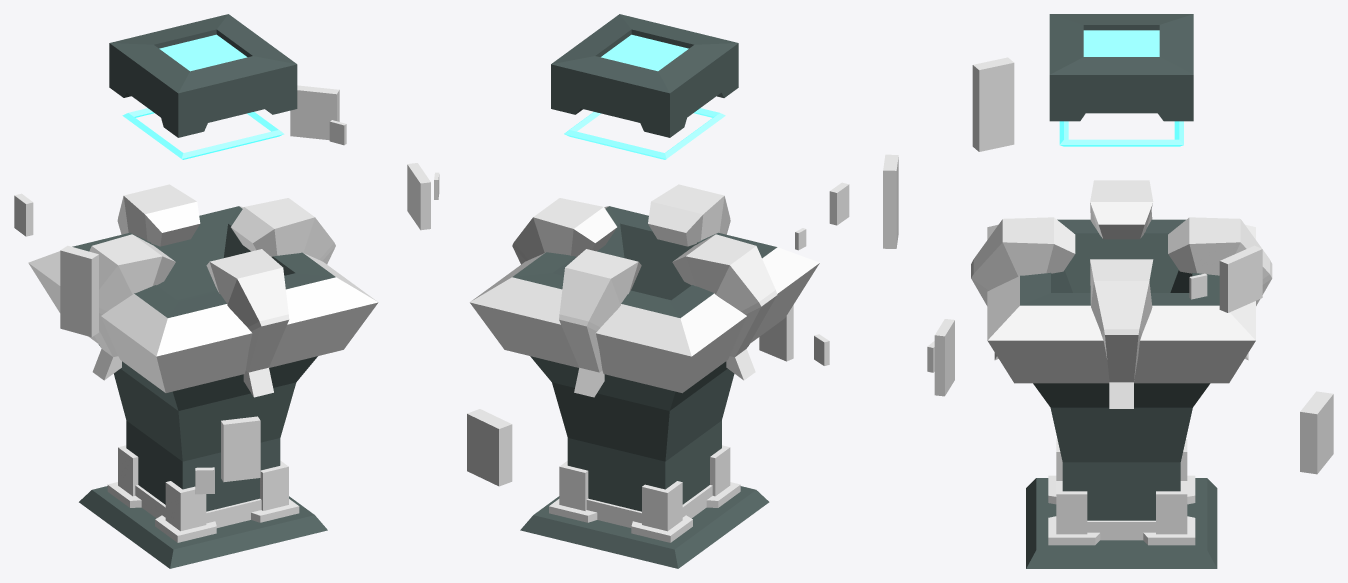
The model's file is windtower.fbx.
3 renders of one model, left to right at view 1: azimuth 30°, elevation 25°; view 2: azimuth 150°, elevation 25°; view 3: azimuth 270°, elevation 25°, orthographic. The views are drawn at different scales.
Parts seen in each view (by area): view 1: Cube.001, Cube.005, Cube.006, Cube.003, Cube, Cube.010, Cube.002, Cube.008, Torus, Cube.011, Cube.004; view 2: Cube.001, Cube.005, Cube.006, Cube.003, Cube, Cube.007, Torus, Cube.010, Cube.008, Cube.002, Cube.011; view 3: Cube.001, Cube.005, Cube.006, Cube, Cube.003, Cube.010, Cube.007, Cube.008, Cube.002, Torus.
Part boxes in pixels (x1,y1,x2,y2): Cube.001: (28,206,378,511); Cube.005: (89,184,335,397); Cube.006: (109,14,297,137); Cube.003: (107,445,299,542); Cube: (79,486,327,568); Cube.010: (60,245,98,337); Cube.002: (221,416,260,482); Cube.008: (290,85,339,140); Torus: (122,108,283,159); Cube.011: (14,193,33,236); Cube.004: (195,467,214,494); Cube.001: (470,206,819,511); Cube.005: (512,184,777,397); Cube.006: (551,14,738,137); Cube.003: (549,445,740,542); Cube: (520,486,769,568); Cube.007: (467,409,512,486); Torus: (564,108,725,159); Cube.010: (883,154,898,248); Cube.008: (407,163,430,230); Cube.002: (759,305,793,361); Cube.011: (829,182,849,225); Cube.001: (987,219,1255,520); Cube.005: (971,180,1272,408); Cube.006: (1049,14,1193,121); Cube: (1026,478,1217,568); Cube.003: (1048,439,1195,545); Cube.010: (972,57,1014,151); Cube.007: (1300,391,1333,474); Cube.008: (1219,245,1262,312); Cube.002: (934,319,954,396); Torus: (1059,121,1183,146).
Bounding box in the file's own units: 447 × 518 × 391.
